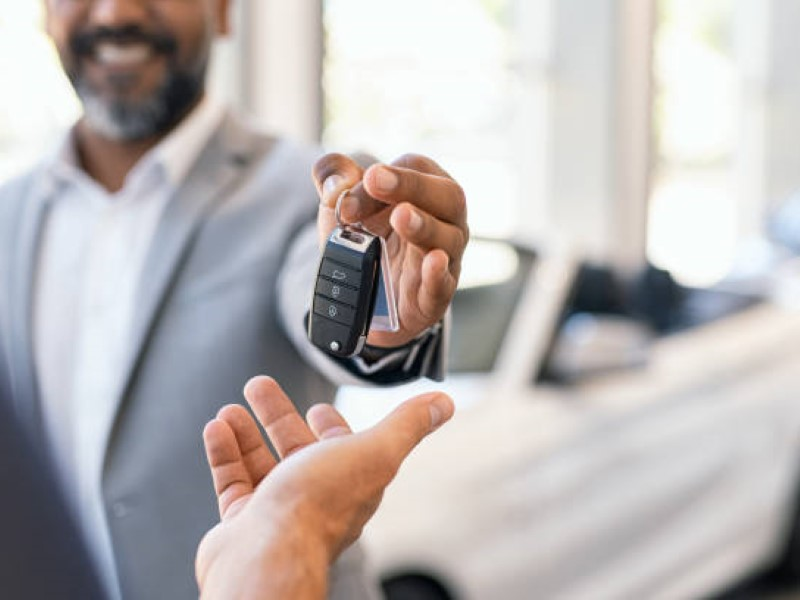carkey: (297, 217, 387, 366)
